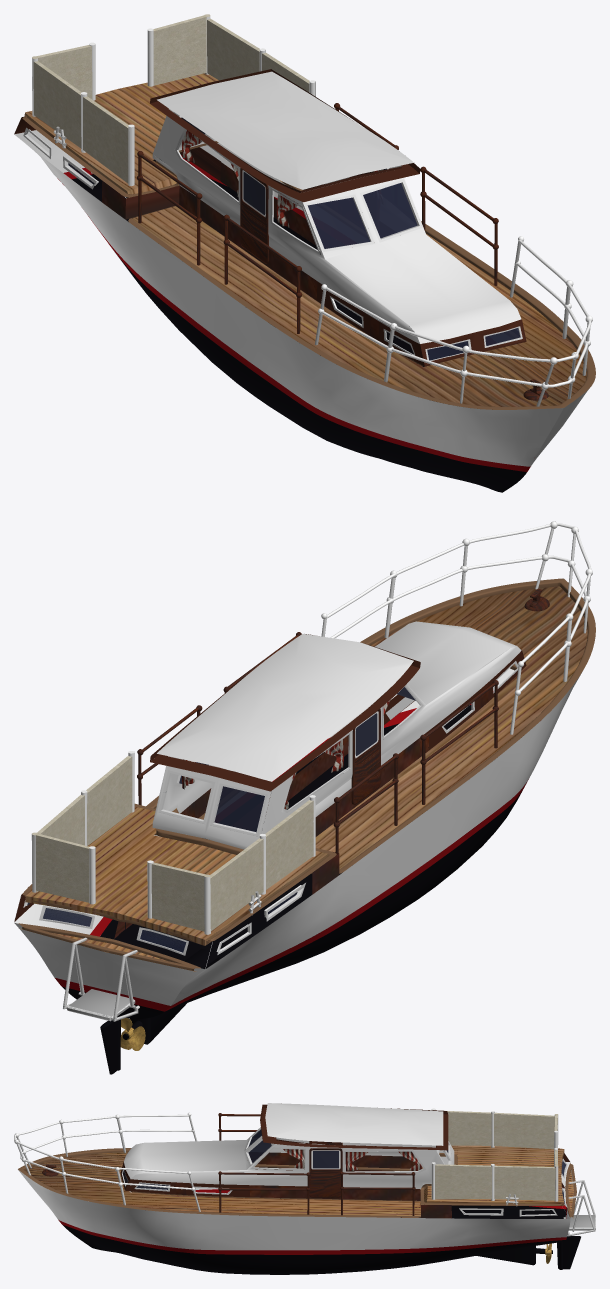
The model's file is user_yacht_motor.glb.
3 renders of one model, top to bottom at view 1: azimuth 30°, elevation 25°; view 2: azimuth 150°, elevation 25°; view 3: azimuth 270°, elevation 25°, orthographic. The views are drawn at different scales.
Visible parts, largest first — view 1: user_yacht_motor; view 2: user_yacht_motor; view 3: user_yacht_motor.
Boxes of the visible parts, <box> form: user_yacht_motor: <box>14,14,595,492</box>; user_yacht_motor: <box>14,521,595,1074</box>; user_yacht_motor: <box>14,1103,595,1274</box>.
Bounding box in the file's own units: 3.31 × 3.54 × 12.2.
Materials: 14 (12 with a texture image).
